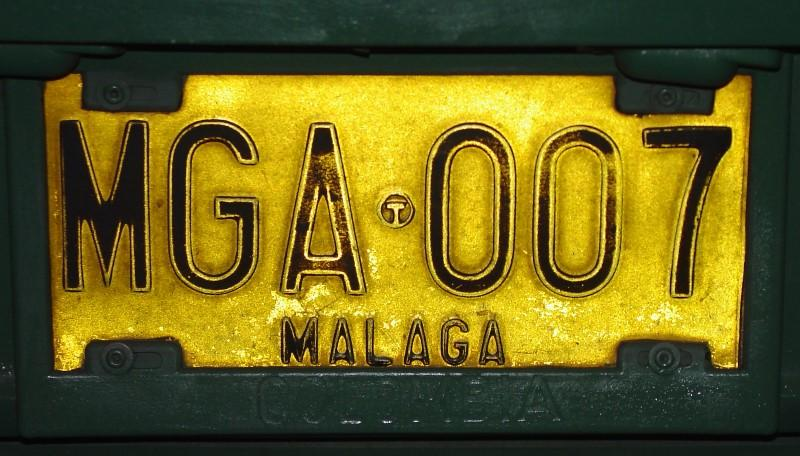placas: (29, 59, 762, 384)
